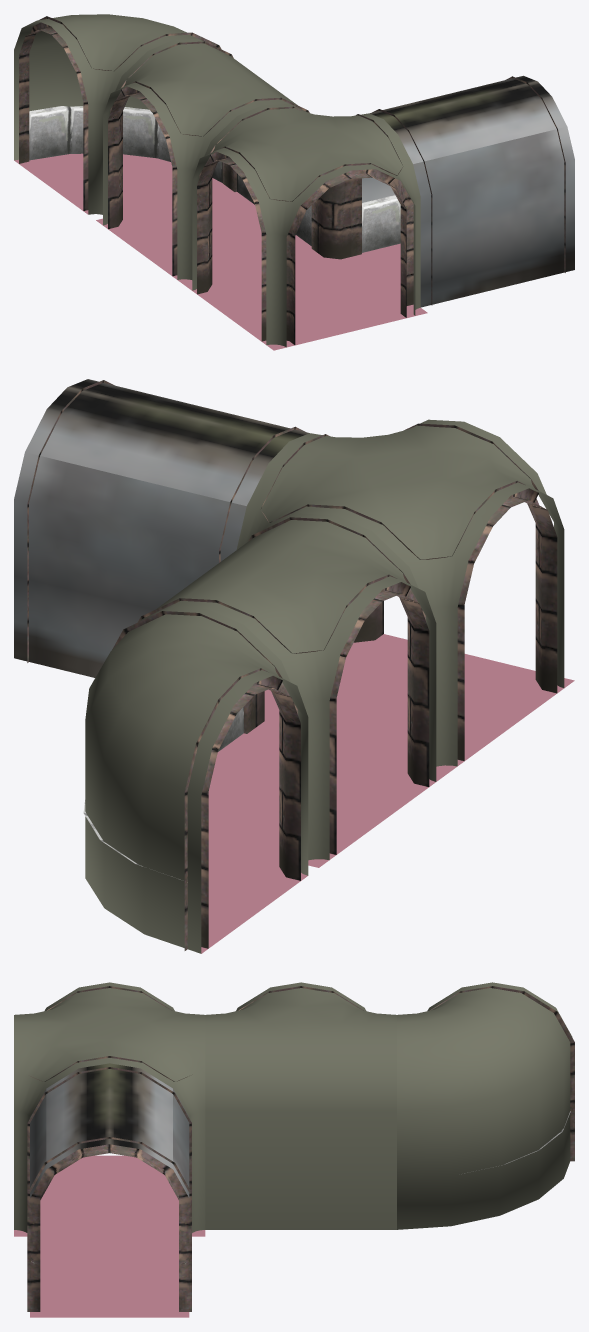
File: fort_corridors.fbx
3 renders of one model, top to bottom at view 1: azimuth 30°, elevation 25°; view 2: azimuth 150°, elevation 25°; view 3: azimuth 270°, elevation 25°, orthographic. The views are drawn at different scales.
Parts seen in each view (by area): view 1: 4ex, 2ex_straight, 3ex, 2ex_angle; view 2: 4ex, 2ex_angle, 2ex_straight, 3ex; view 3: 3ex, 2ex_angle, 4ex, 2ex_straight.
Boxes of the visible parts, box(x1,y1,x2,y2) form: 4ex: box(185, 104, 427, 350); 2ex_straight: box(351, 75, 574, 307); 3ex: box(96, 39, 317, 285); 2ex_angle: box(14, 14, 228, 214); 4ex: box(236, 419, 574, 774); 2ex_angle: box(83, 607, 308, 953); 2ex_straight: box(14, 379, 309, 677); 3ex: box(137, 513, 446, 867); 3ex: box(205, 982, 396, 1229); 2ex_angle: box(397, 982, 574, 1229); 4ex: box(14, 982, 205, 1236); 2ex_straight: box(27, 1063, 191, 1317).
Bounding box in the file's own units: 600 × 303 × 879.
Materials: 4 (3 with a texture image).
